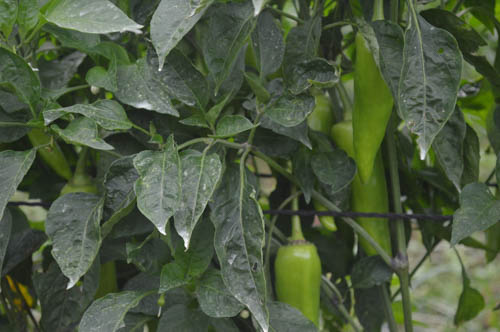ChiliPepper: (335, 123, 390, 257), (353, 34, 396, 185), (59, 185, 114, 300), (272, 242, 322, 328), (307, 103, 336, 234)
